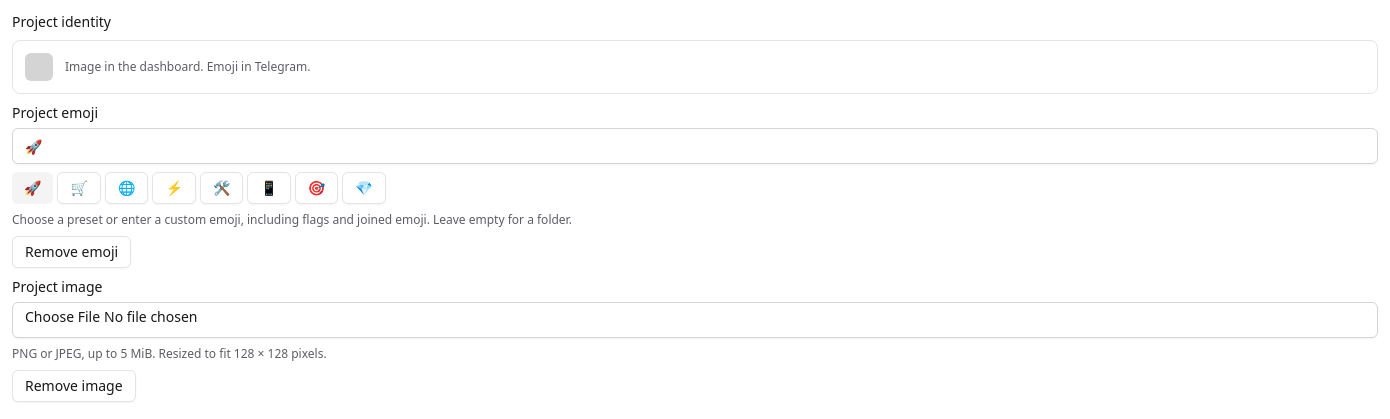
Scenario: project identity › keeps the independent value while clearing and selecting custom or preset emoji
Click the button "Remove emoji" at coordinates (72, 252), box [12,236,131,268]
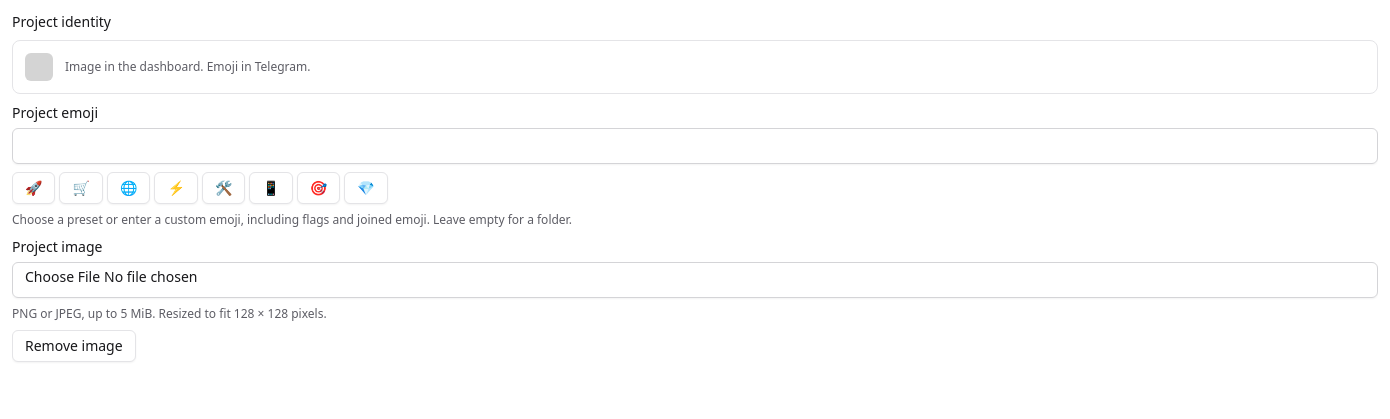
Now the field labelled "Project emoji" is empty
Type "👩🏽‍💻" into the field labelled "Project emoji" at coordinates (695, 146), box [12,128,1378,164]
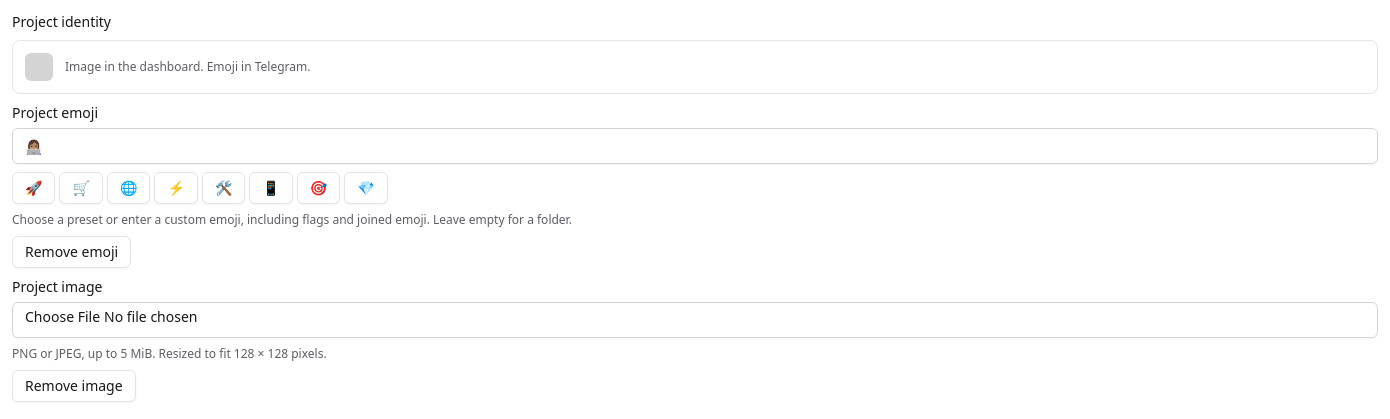
Click the button "Remove image" at coordinates (74, 386), box [12,370,136,402]
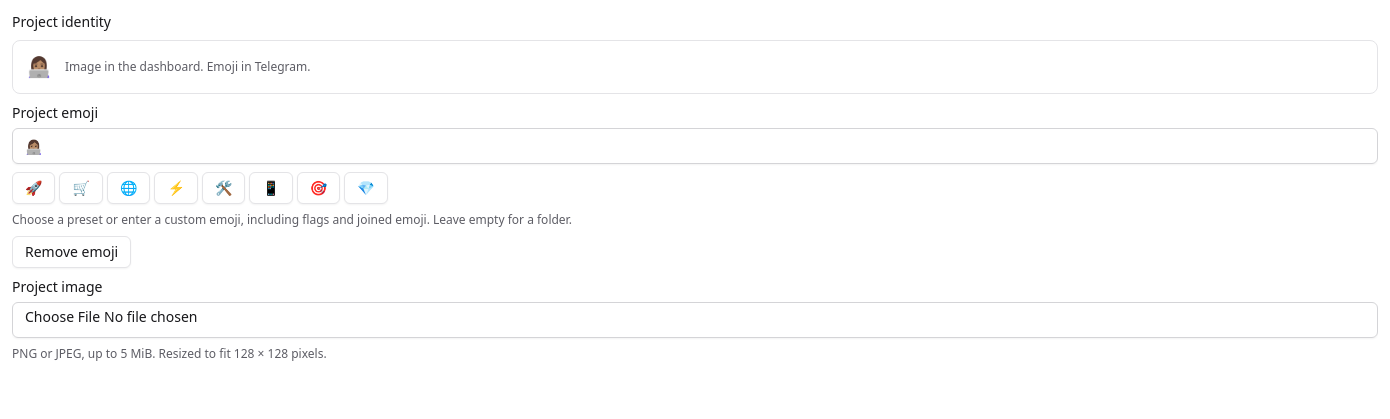
Now the picture is gone
Click the button named "Use 🛒" at coordinates (81, 188), box [60,172,103,204]
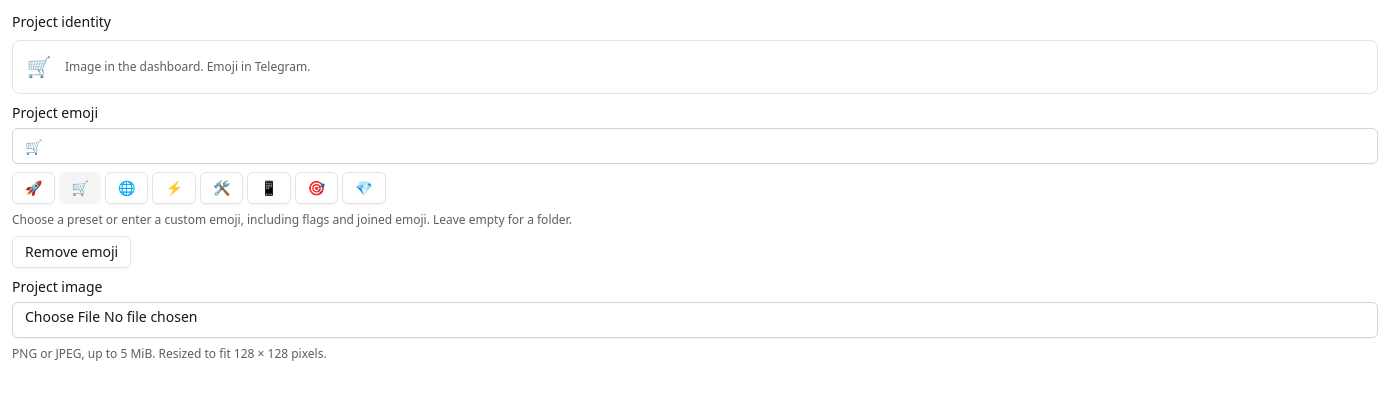
Now the field labelled "Project emoji" holds "🛒", box [12,128,1378,164]
